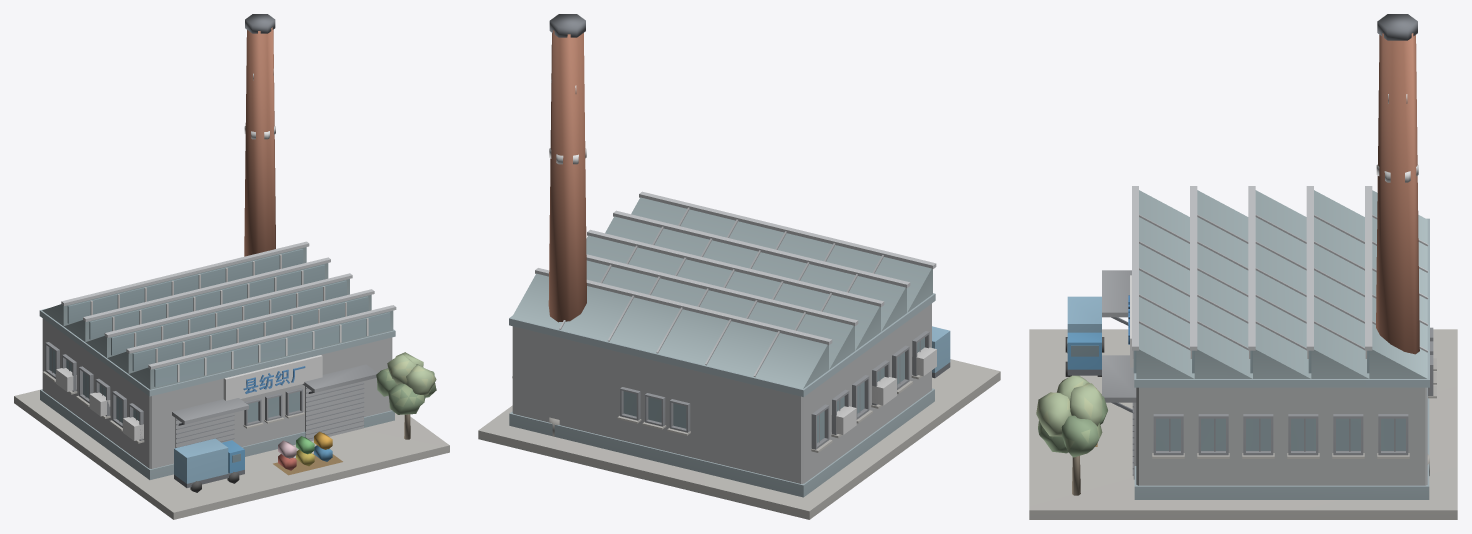
The model's file is textile.glb.
3 renders of one model, left to right at view 1: azimuth 30°, elevation 25°; view 2: azimuth 150°, elevation 25°; view 3: azimuth 270°, elevation 25°, orthographic. The views are drawn at different scales.
Visible parts, largest first — view 1: textile; view 2: textile; view 3: textile.
Part boxes in pixels (x1,y1,x2,y2): textile: [14, 14, 449, 519]; textile: [478, 14, 1000, 519]; textile: [1029, 14, 1457, 519].
Bounding box in the file's own units: 2.04 × 2.39 × 2.
